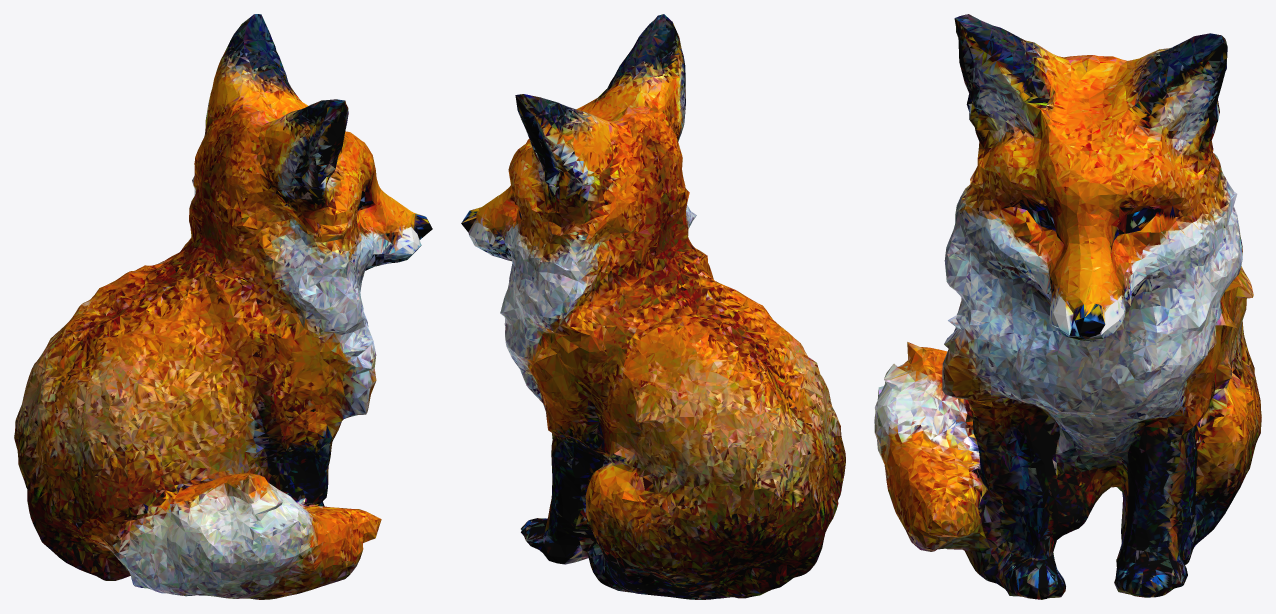
File: fox-normal.glb
3 views of the same model, side by side, from view 1: azimuth 30°, elevation 25°; view 2: azimuth 150°, elevation 25°; view 3: azimuth 270°, elevation 25° (orthographic). The views are drawn at different scales.
Visible parts, largest first — view 1: extracted_mesh; view 2: extracted_mesh; view 3: extracted_mesh.
Boxes of the visible parts, left/top/right/bottom form: extracted_mesh: left=14, top=14, right=432, bottom=599; extracted_mesh: left=461, top=14, right=845, bottom=599; extracted_mesh: left=874, top=14, right=1261, bottom=599.
Bounding box in the file's own units: 0.8474 × 1.07 × 0.6465.
1 material, 1 textured.
